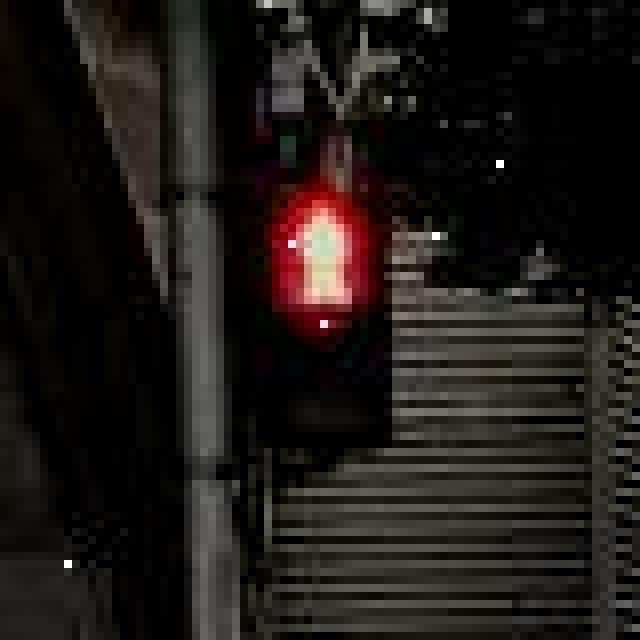redlight: (249, 177, 409, 488)
